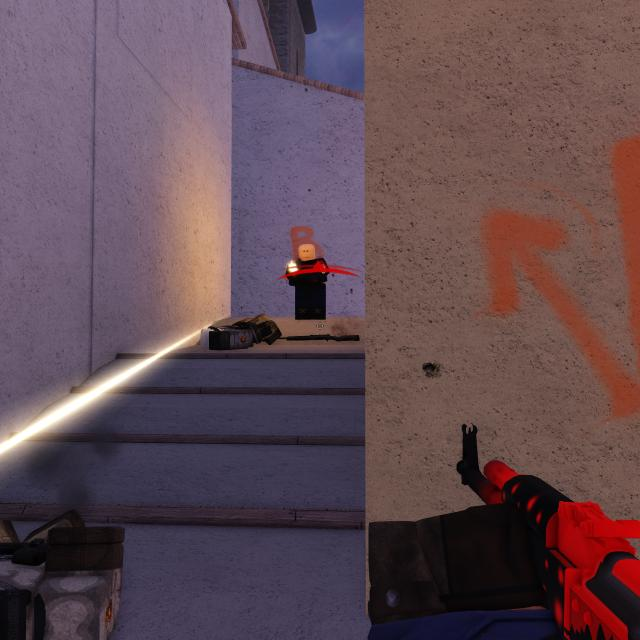Head: (298, 243, 315, 262)
Player: (284, 243, 330, 320)
